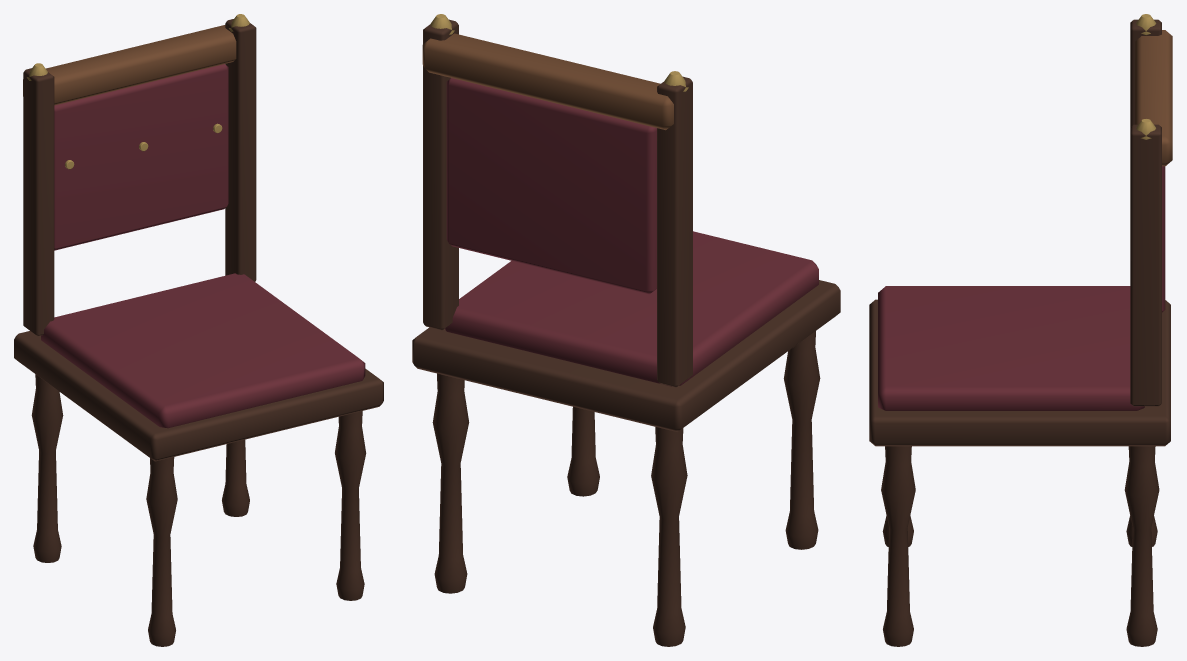
File: rpg-mansion-chair-01.glb
3 views of the same model, side by side, from view 1: azimuth 30°, elevation 25°; view 2: azimuth 150°, elevation 25°; view 3: azimuth 270°, elevation 25° (orthographic). The views are drawn at different scales.
Visible parts, largest first — view 1: rpg-mansion-chair-01; view 2: rpg-mansion-chair-01; view 3: rpg-mansion-chair-01.
Part boxes in pixels (box(x1,y1,x2,y2)): rpg-mansion-chair-01: box(14, 14, 383, 646); rpg-mansion-chair-01: box(412, 14, 840, 646); rpg-mansion-chair-01: box(869, 14, 1172, 646).
Bounding box in the file's own units: 0.52 × 1.05 × 0.55.
